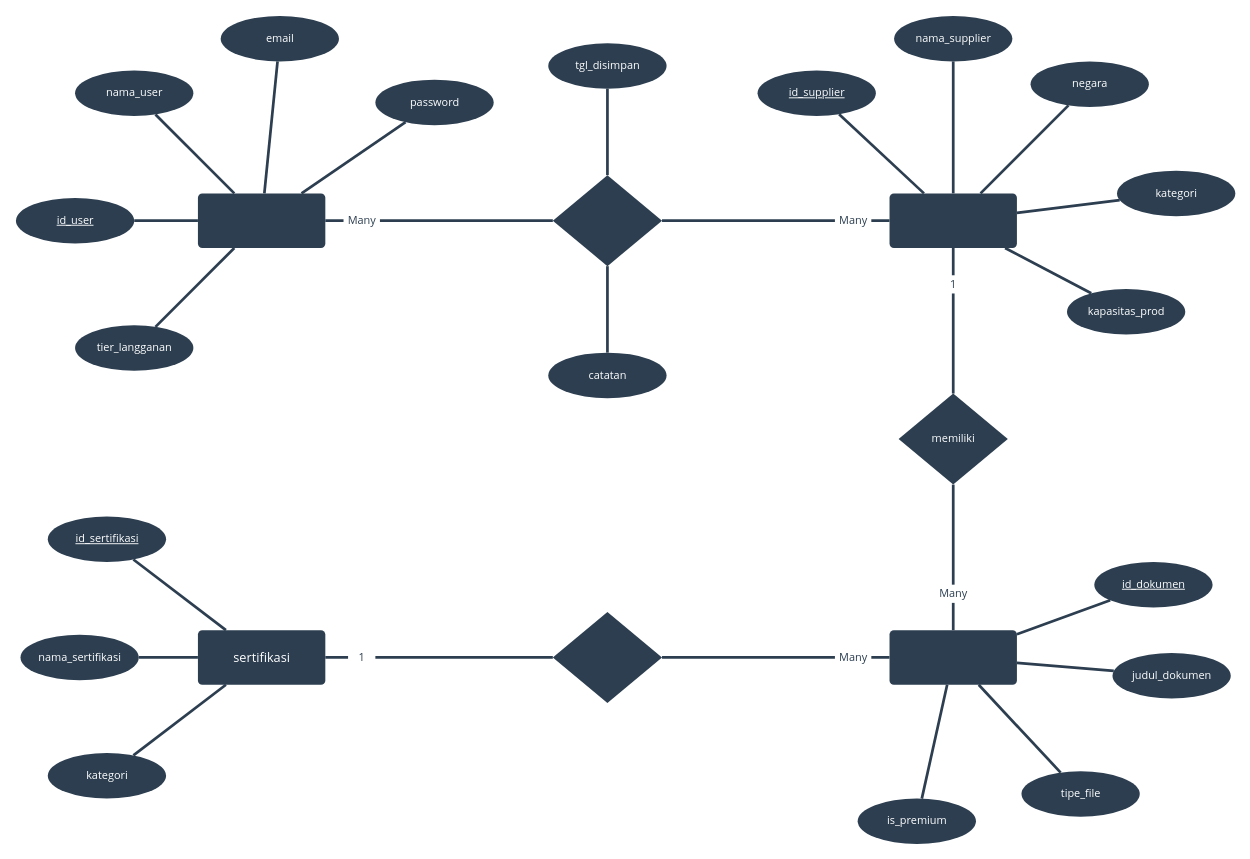
The diagram is 1250 pixels wide and 859 high, and some of its shapes have lost their labels. Here are the shapes that lost their labels. From the top down, the box of each, then its label:
(197, 193, 325, 248): user
(552, 175, 662, 266): menyimpan
(889, 193, 1016, 248): supplier
(552, 612, 662, 703): membuktikan
(889, 630, 1016, 684): dokumen
